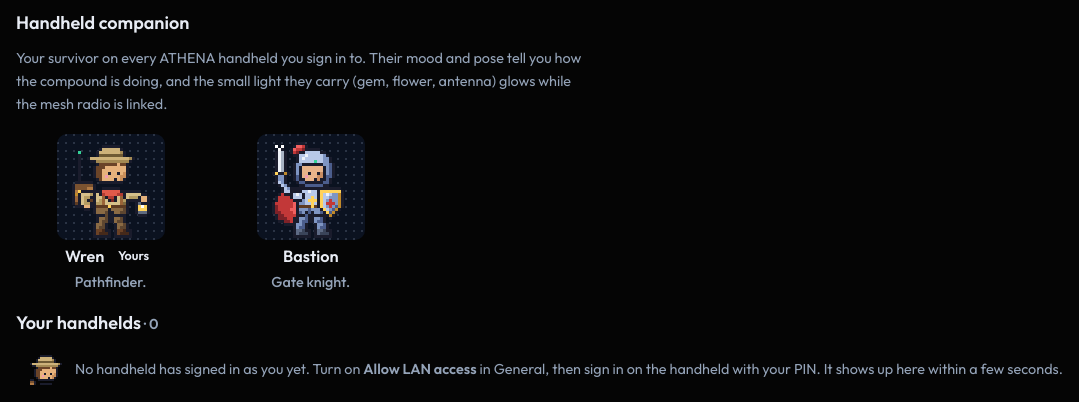
Test: HandheldPanel › saves a new companion on the station
Click the radio button labelled "Bastion Gate knight.".
click(311, 213)  # box [216, 134, 405, 291]
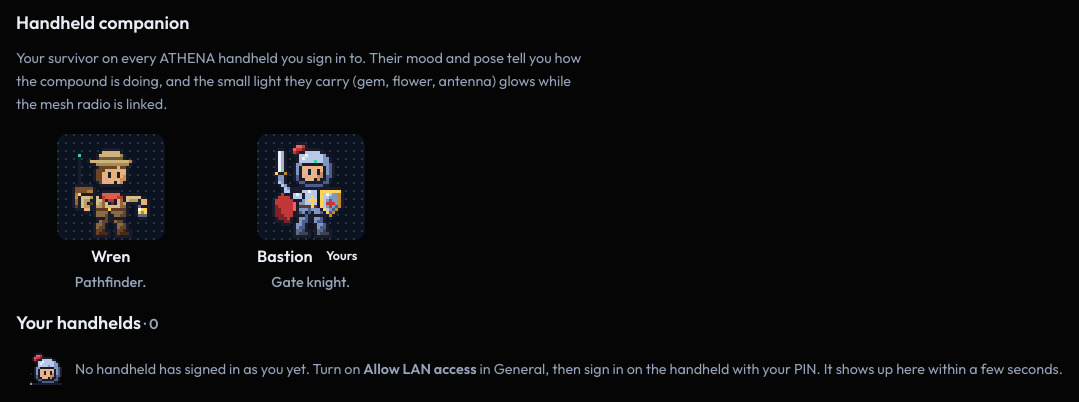
Result: the radio button labelled "Bastion Yours Gate knight." is checked at [216, 134, 405, 291]
